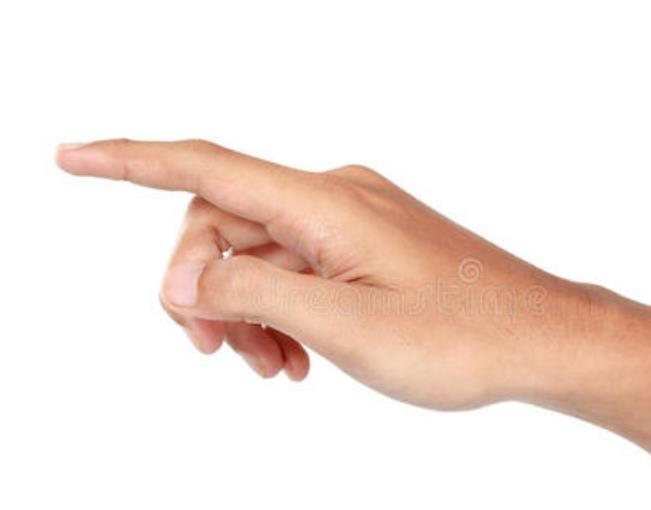up: (42, 122, 514, 423)
